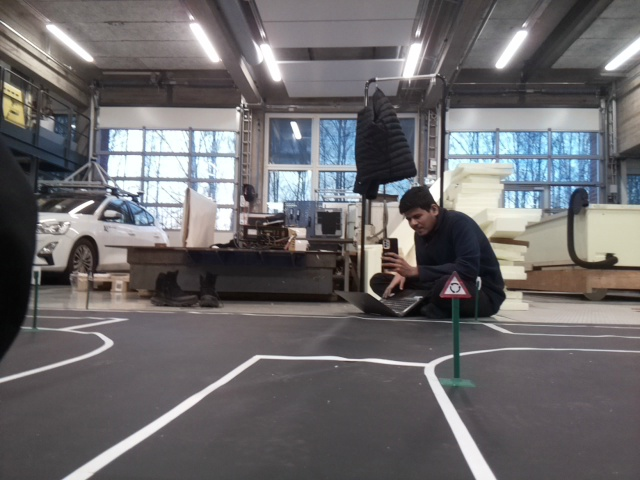Roundabout: (435, 269, 471, 299)
